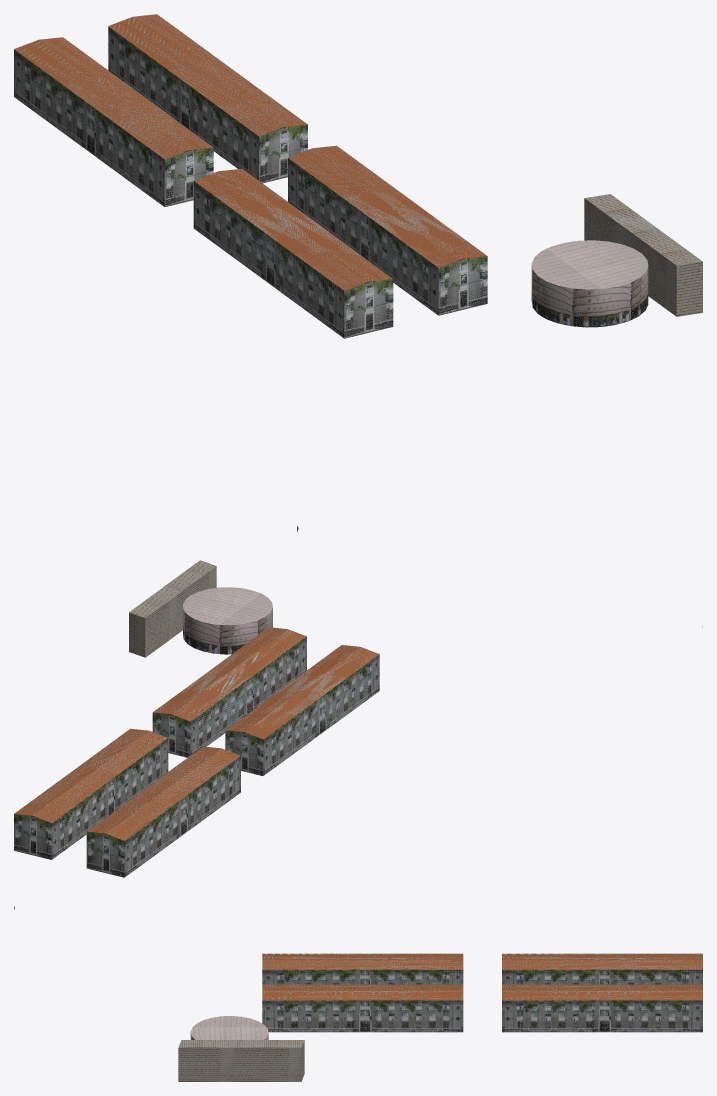
The model's file is sushe.dae.
3 renders of one model, top to bottom at view 1: azimuth 30°, elevation 25°; view 2: azimuth 150°, elevation 25°; view 3: azimuth 270°, elevation 25°, orthographic. The views are drawn at different scales.
Parts seen in each view (by area): view 1: group_1 (×3), group_0 (×3), group_3 (×3), group_2 (×3), SketchUp (×3); view 2: group_3 (×3), group_2 (×3), group_1 (×3), group_0 (×3), SketchUp (×3); view 3: group_0 (×2), group_2 (×2), SketchUp (×2), group_1 (×2), group_3 (×2).
Part boxes in pixels (x1,y1,x2,y2): group_1 (×3): (193, 168, 393, 338); group_0 (×3): (288, 145, 487, 315); group_3 (×3): (14, 37, 213, 206); group_2 (×3): (108, 14, 307, 183); SketchUp (×3): (531, 194, 702, 327); group_3 (×3): (86, 746, 240, 877); group_2 (×3): (14, 728, 168, 859); group_1 (×3): (225, 645, 379, 775); group_0 (×3): (152, 627, 306, 757); SketchUp (×3): (129, 560, 272, 657); group_0 (×2): (262, 984, 463, 1032); group_2 (×2): (502, 984, 702, 1032); SketchUp (×2): (178, 1016, 304, 1081); group_1 (×2): (262, 953, 463, 984); group_3 (×2): (502, 953, 702, 984).
Bounding box in the file's own units: 6379 × 10796 × 591.
Materials: 15 (6 with a texture image).
